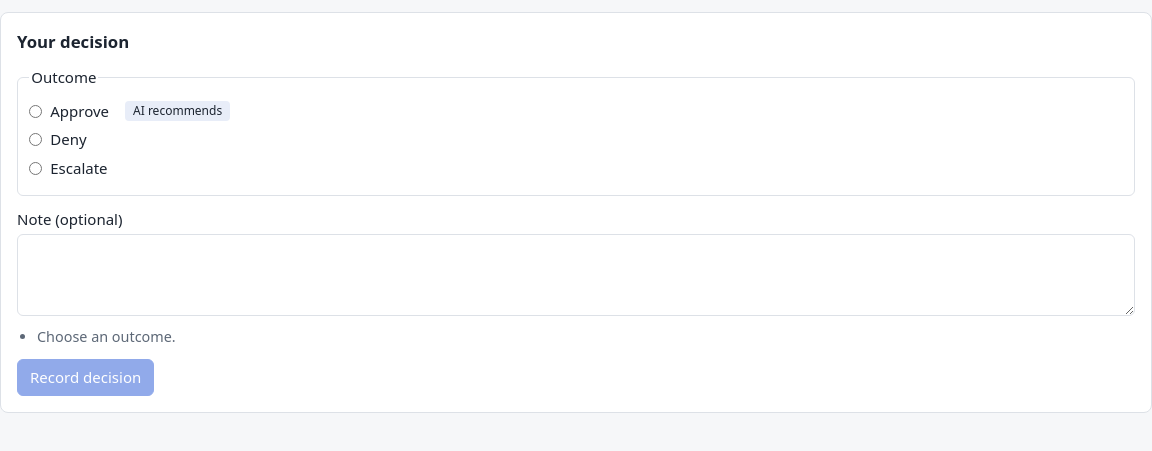
Test: DecisionForm › shows a server rejection instead of swallowing it
Click the radio button labelled "Approve AI recommends" at (36, 111), box [29,105,42,118]
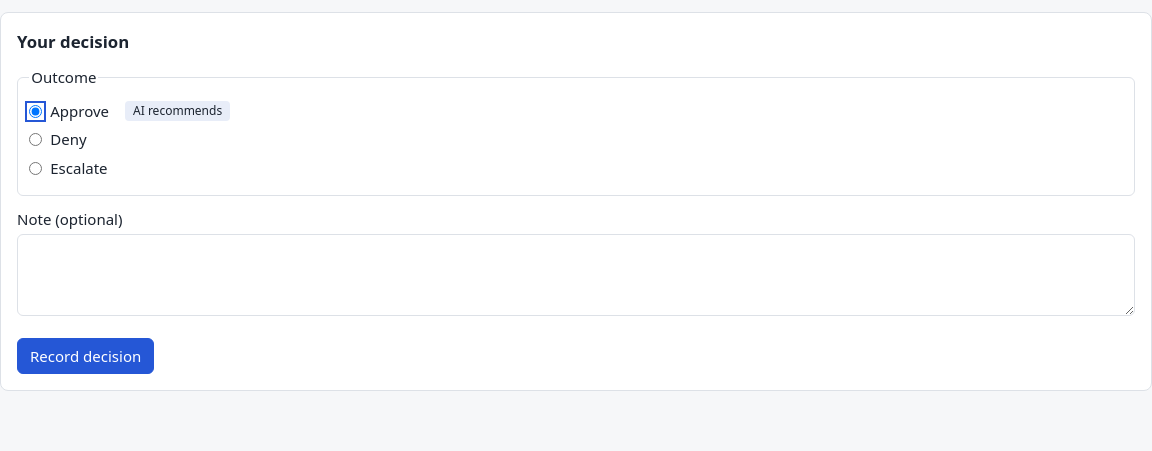
Click the button "Record decision" at (86, 356), box [17,338,154,374]
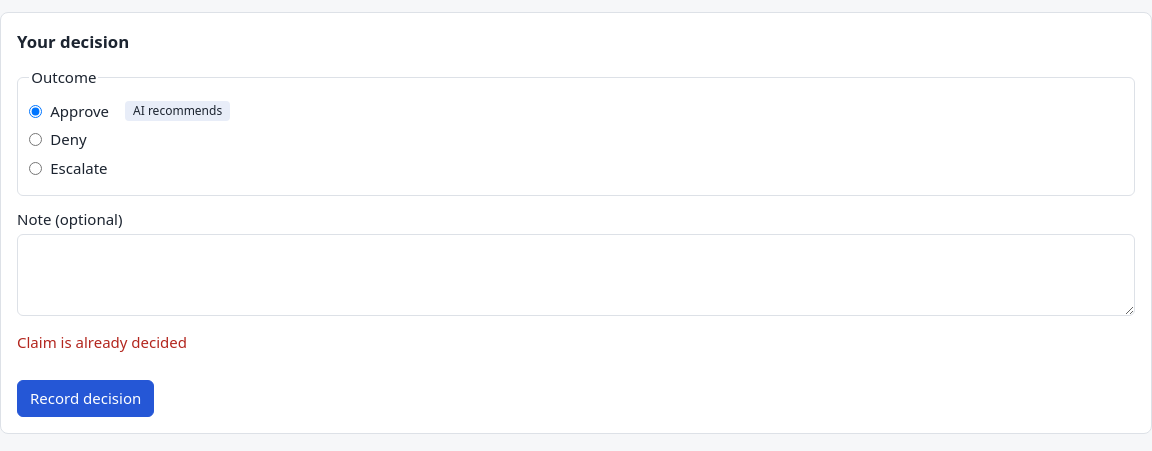
expect the message shows "already decided": met, box [17,332,187,352]
